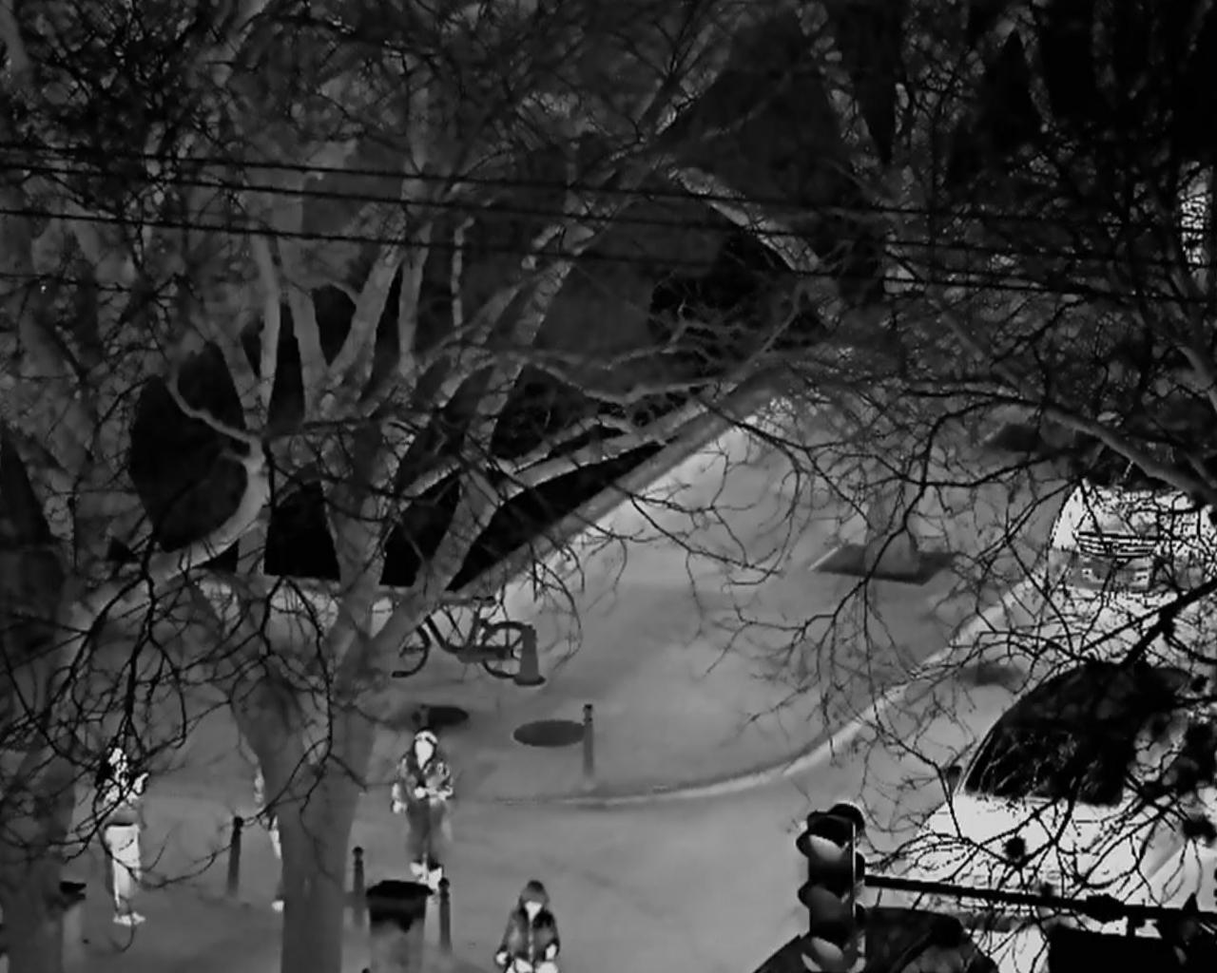person: (389, 729, 455, 892), (100, 746, 148, 925), (493, 879, 561, 973)
